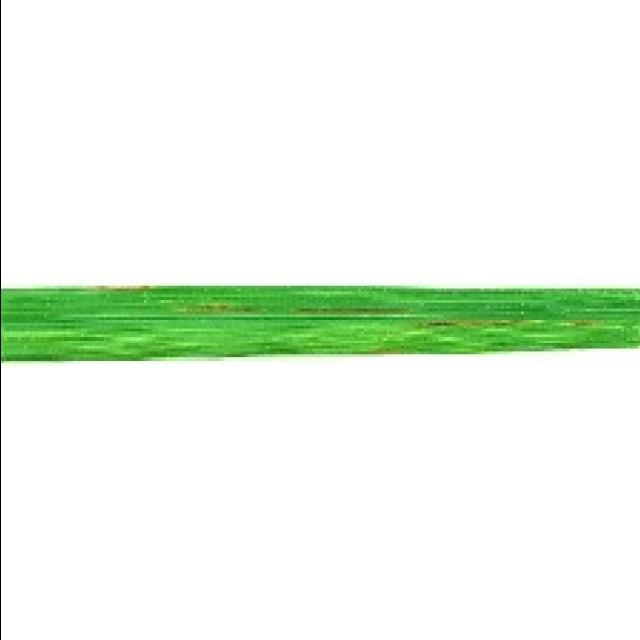Unhealthy: (173, 303, 267, 313), (296, 308, 410, 315), (425, 320, 517, 326), (82, 286, 152, 292), (568, 319, 600, 326)
